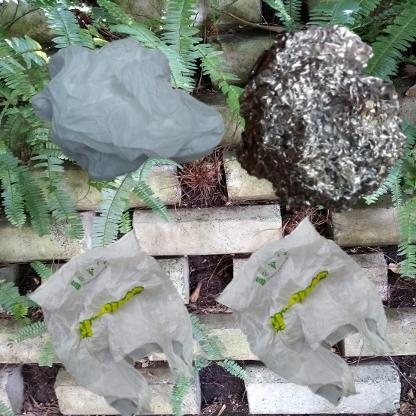aluminio: (213, 10, 416, 239)
bolsa: (10, 10, 278, 249), (10, 213, 223, 416), (213, 213, 397, 409)
